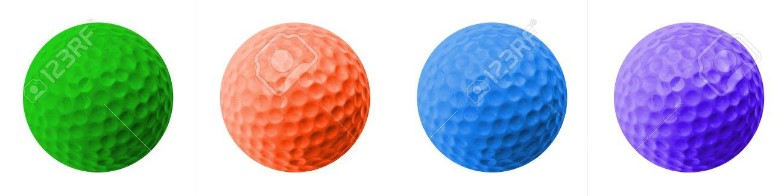blue ball: (419, 21, 571, 174)
red ball: (218, 22, 373, 173)
